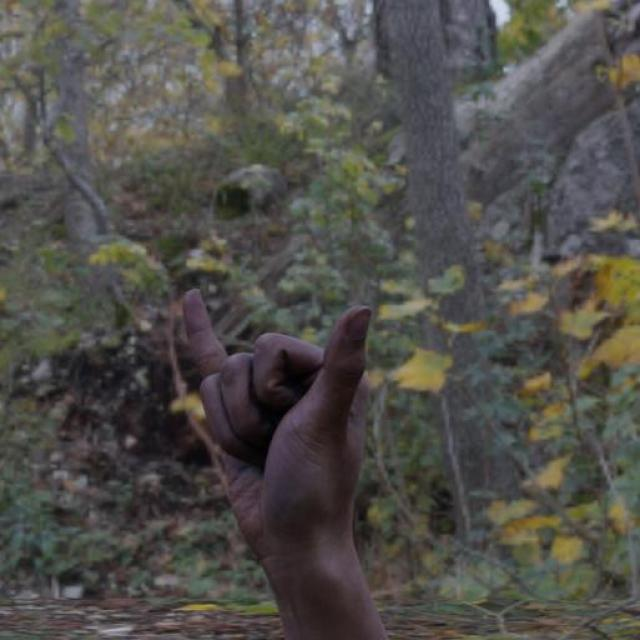Y: (179, 279, 377, 560)
